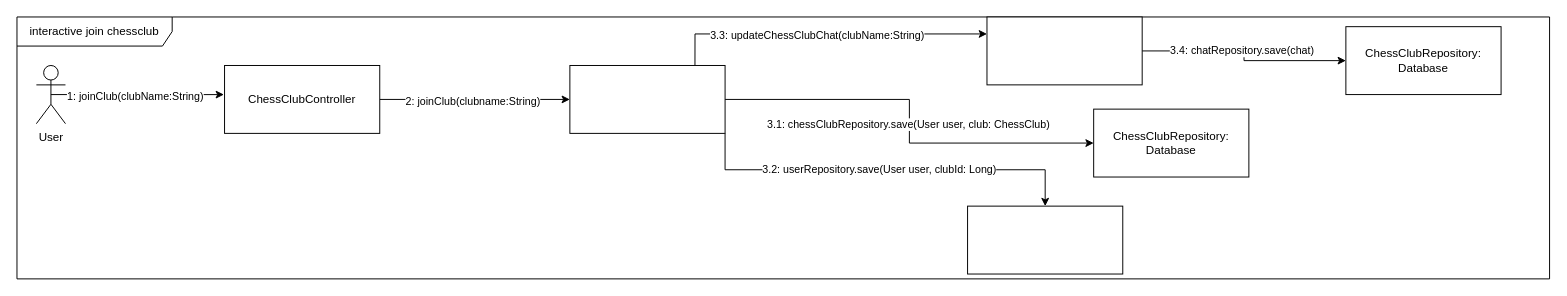
This 1567x296 diagram has some shape labels left out. Each missing label, with the box of its shape:
ChatService: (986, 16, 1142, 85)
ChessClubService: (569, 65, 725, 133)
UserRepository: Database: (967, 205, 1123, 274)
